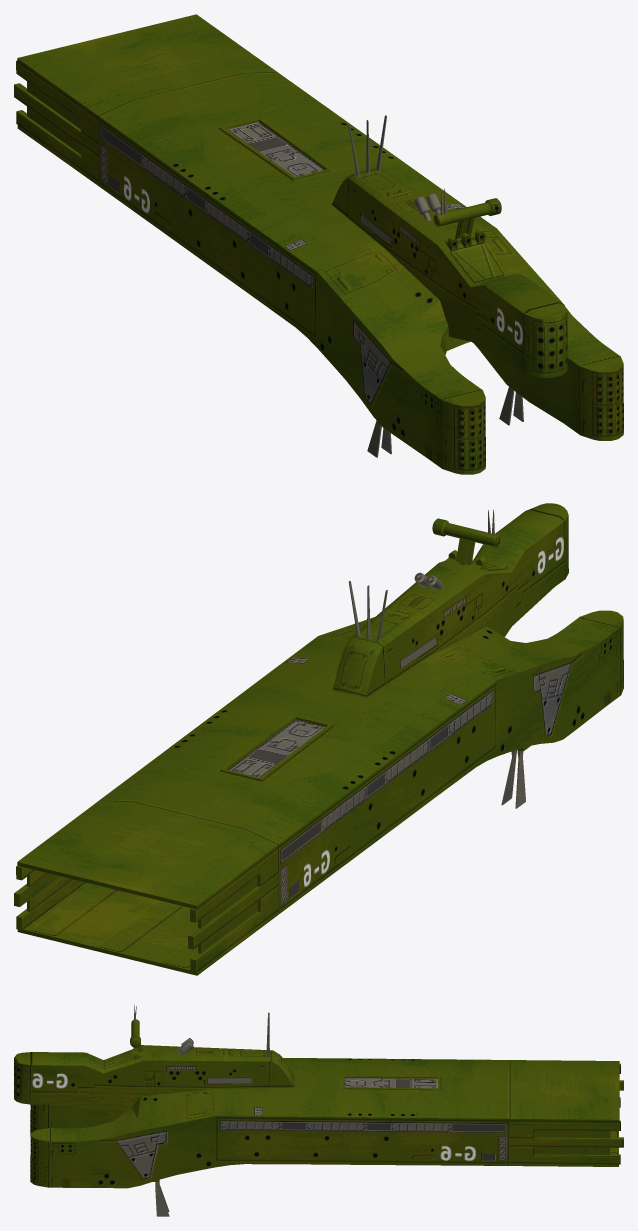
The model's file is FPA_CommandShip_Triglav.obj.
3 renders of one model, top to bottom at view 1: azimuth 30°, elevation 25°; view 2: azimuth 150°, elevation 25°; view 3: azimuth 270°, elevation 25°, orthographic. The views are drawn at different scales.
Visible parts, largest first — view 1: FPA_CommandShip_Triglav; view 2: FPA_CommandShip_Triglav; view 3: FPA_CommandShip_Triglav.
Part boxes in pixels (<box>): FPA_CommandShip_Triglav: <box>14,14,623,474</box>; FPA_CommandShip_Triglav: <box>14,503,623,975</box>; FPA_CommandShip_Triglav: <box>14,1004,623,1216</box>.
Bounding box in the file's own units: 169 × 241 × 739.
